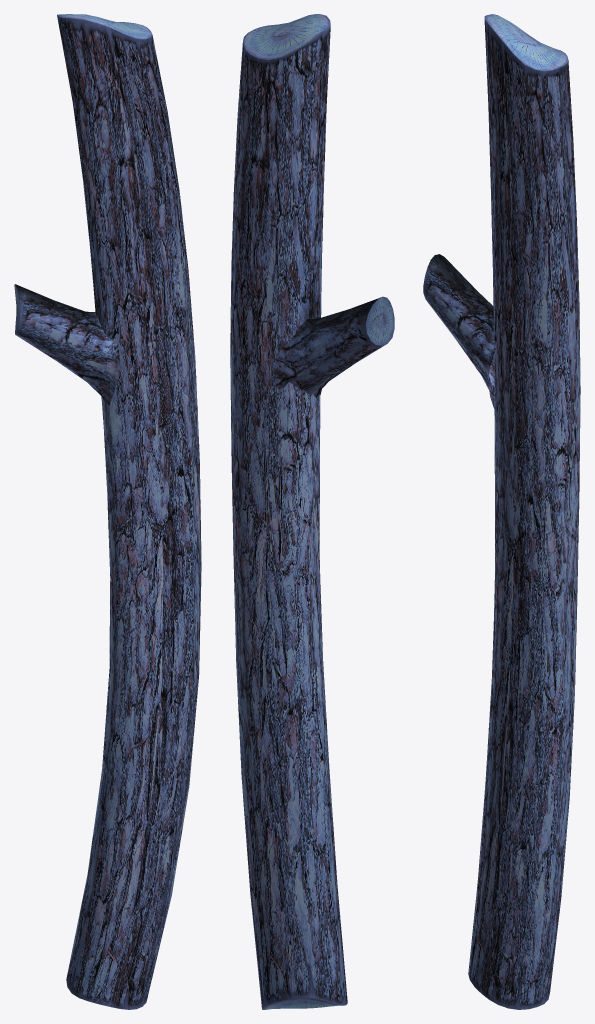
File: cuerpo_lampara.obj
3 renders of one model, left to right at view 1: azimuth 30°, elevation 25°; view 2: azimuth 150°, elevation 25°; view 3: azimuth 330°, elevation 25°, orthographic. The views are drawn at different scales.
Parts seen in each view (by area): view 1: polySurface5 polySurface3; view 2: polySurface5 polySurface3; view 3: polySurface5 polySurface3.
Boxes of the visible parts, x1,y1,x2,y2 form: polySurface5 polySurface3: (14, 14, 201, 1009); polySurface5 polySurface3: (230, 14, 394, 1009); polySurface5 polySurface3: (423, 14, 580, 1009).
Bounding box in the file's own units: 0.9293 × 5.27 × 0.542.
Materials: 1 (1 with a texture image).
